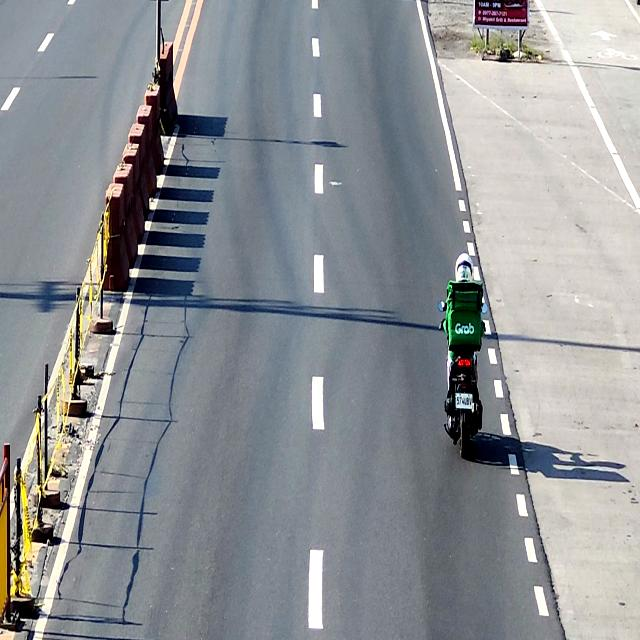License-Plate: (455, 393, 473, 409)
Motorcycle: (438, 298, 488, 458)
